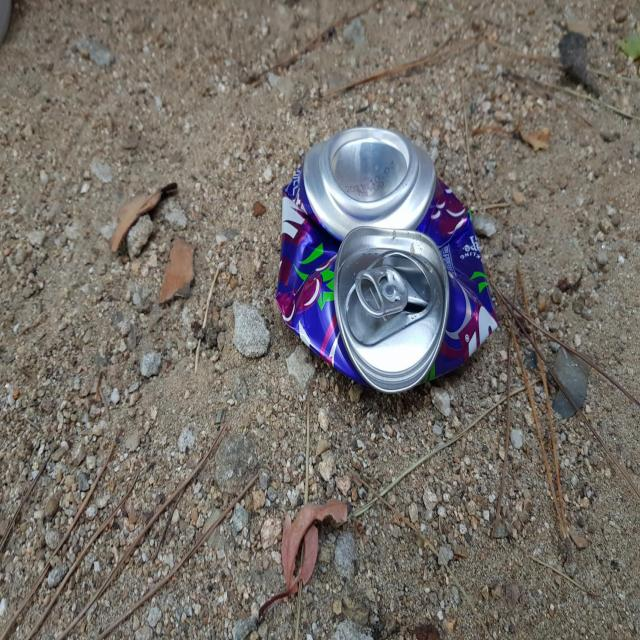can: (276, 126, 498, 392)
